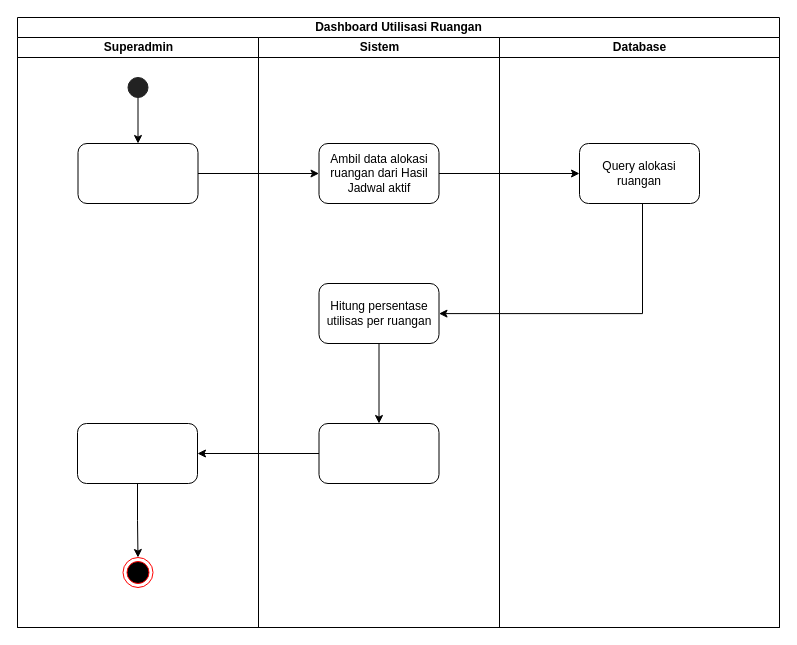
Image size: 797x645. Some labels were removed from this diagram. Here are the shapes that lost their labels. From the top down, the centre of each, then its label:
pixel 137 173: Buka halaman Dashboard Utilisasi Ruangan
pixel 137 453: Lihat dashboard utilitas ruangan (grafik/table)
pixel 378 453: Tandai ruangan kosong dan bentrok
